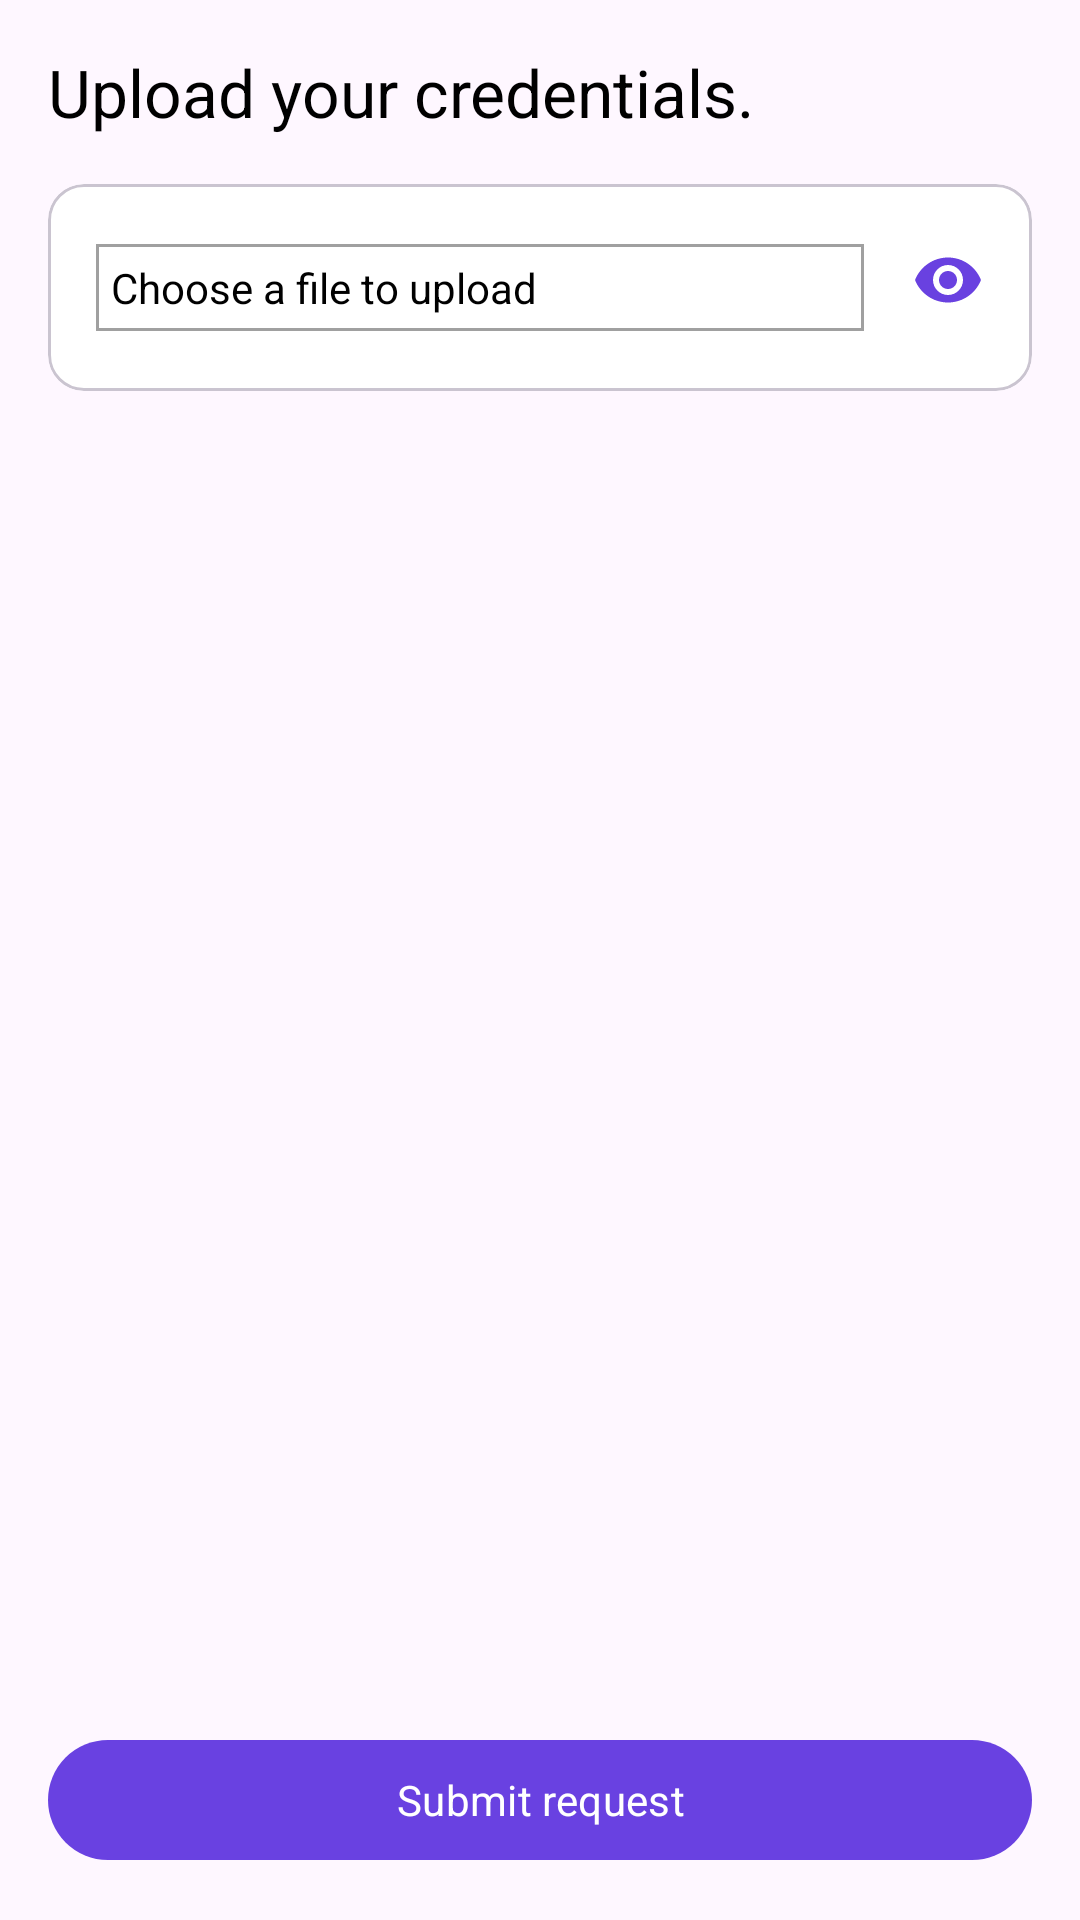

Where to tap for icons on this 1080 x 1920 app screen, as [x,y]:
preview: [948,280]
